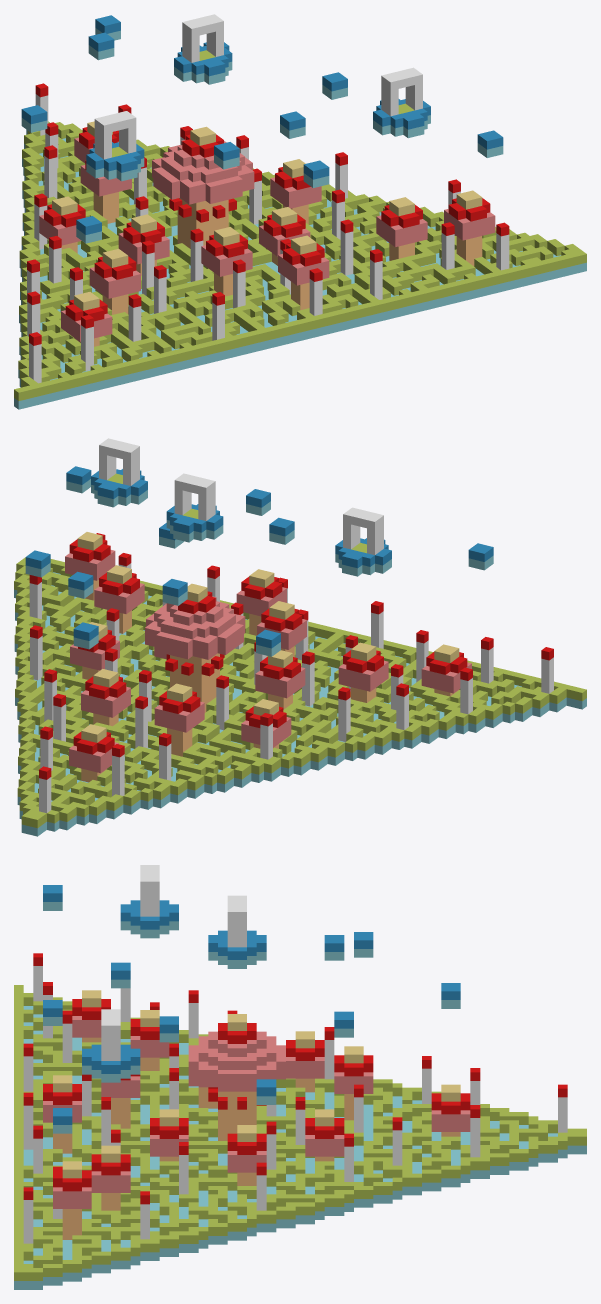
Rendered from City(Kaylee).vox.obj.
3 renders of one model, top to bottom at view 1: azimuth 30°, elevation 25°; view 2: azimuth 150°, elevation 25°; view 3: azimuth 270°, elevation 25°, orthographic. The views are drawn at different scales.
Bounding box in the file's own units: 7 × 2.8 × 5.9.
Materials: 1 (1 with a texture image).
